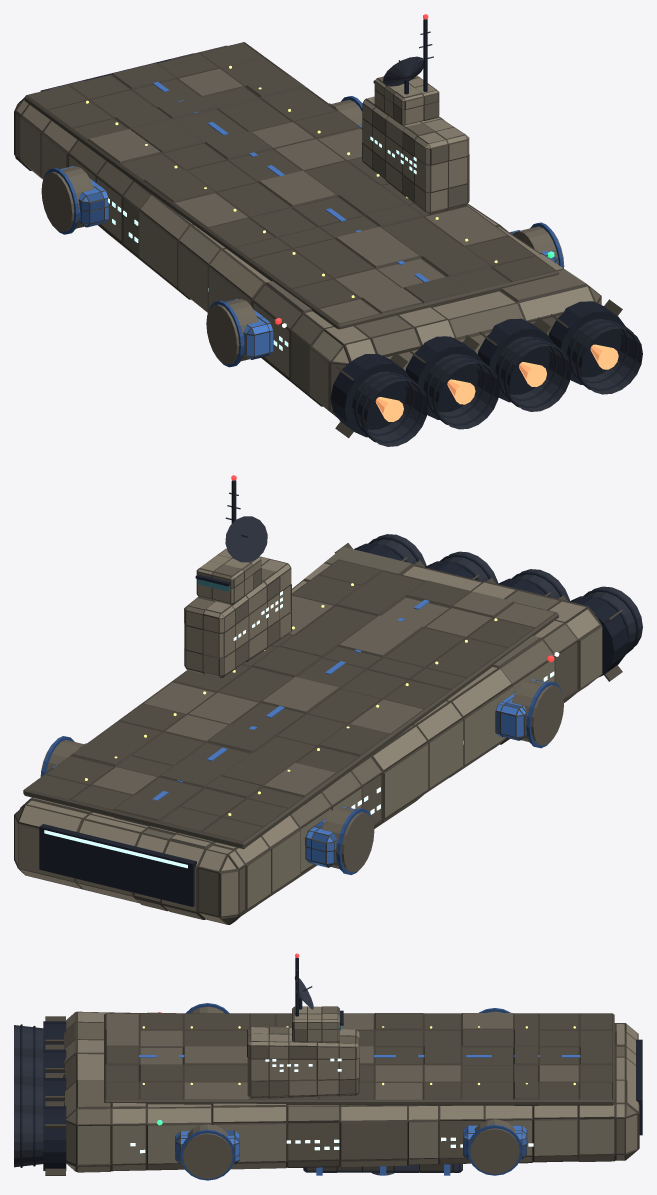
The model's file is ark.glb.
3 views of the same model, one above another, from view 1: azimuth 30°, elevation 25°; view 2: azimuth 150°, elevation 25°; view 3: azimuth 270°, elevation 25° (orthographic). The views are drawn at different scales.
Parts seen in each view (by area): view 1: ark_mesh, radar_mesh; view 2: ark_mesh, radar_mesh; view 3: ark_mesh.
Part boxes in pixels (x1,y1,x2,y2): ark_mesh: (14,19,642,446); radar_mesh: (383,56,423,94); ark_mesh: (14,480,642,924); radar_mesh: (225,516,267,562); ark_mesh: (14,957,642,1180).
Bounding box in the file's own units: 19.2 × 17.56 × 39.42.
